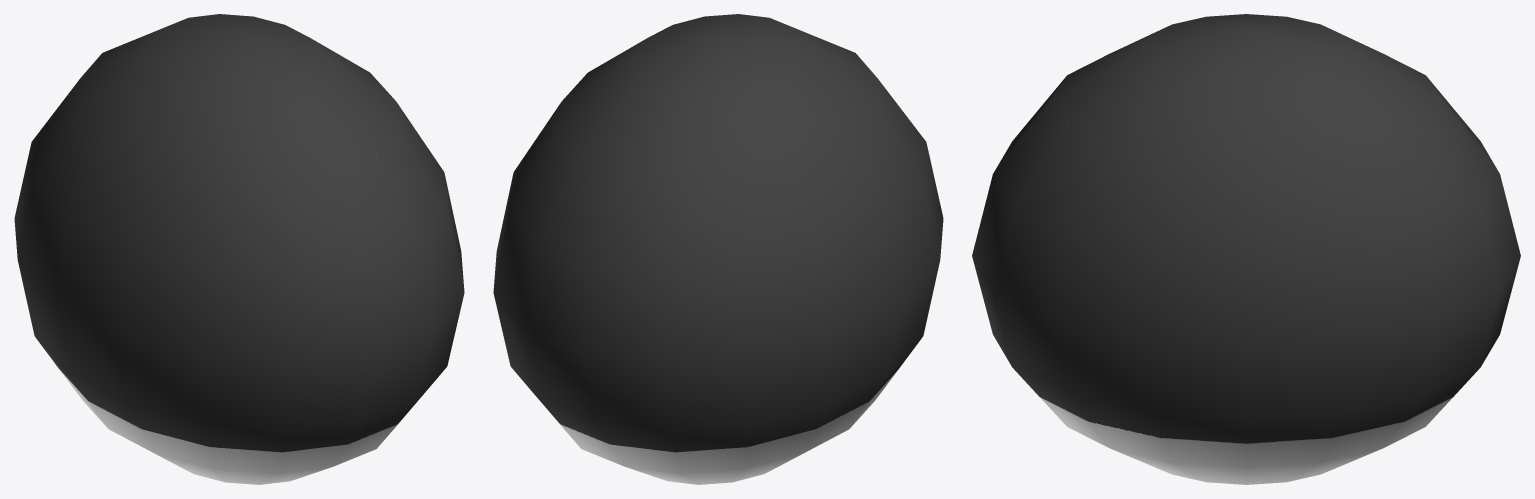
File: Space_Mole_Helmet.fbx
3 views of the same model, side by side, from view 1: azimuth 30°, elevation 25°; view 2: azimuth 150°, elevation 25°; view 3: azimuth 270°, elevation 25° (orthographic). The views are drawn at different scales.
Visible parts, largest first — view 1: Space_Mole_Helmet; view 2: Space_Mole_Helmet; view 3: Space_Mole_Helmet.
Part boxes in pixels (<box>): Space_Mole_Helmet: <box>14,14,464,484</box>; Space_Mole_Helmet: <box>493,14,943,484</box>; Space_Mole_Helmet: <box>972,14,1520,484</box>.
Size of the model in its own units: 200 by 220 by 250.
1 material, 1 textured.
